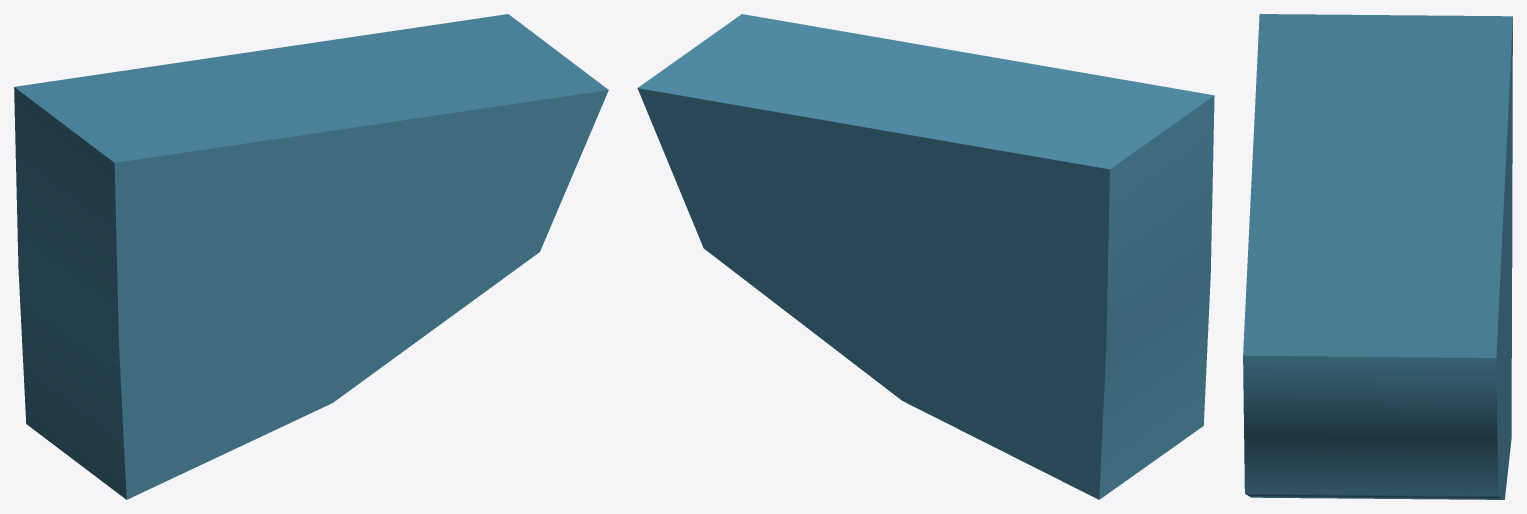
File: NexusA_Trigger_19.fbx
3 views of the same model, side by side, from view 1: azimuth 30°, elevation 25°; view 2: azimuth 150°, elevation 25°; view 3: azimuth 270°, elevation 25° (orthographic). The views are drawn at different scales.
Visible parts, largest first — view 1: pCube54; view 2: pCube54; view 3: pCube54.
Part boxes in pixels (x1,y1,x2,y2): pCube54: (14,14,608,499); pCube54: (637,14,1214,499); pCube54: (1243,14,1512,499).
Bounding box in the file's own units: 33.03 × 21.87 × 12.85.
